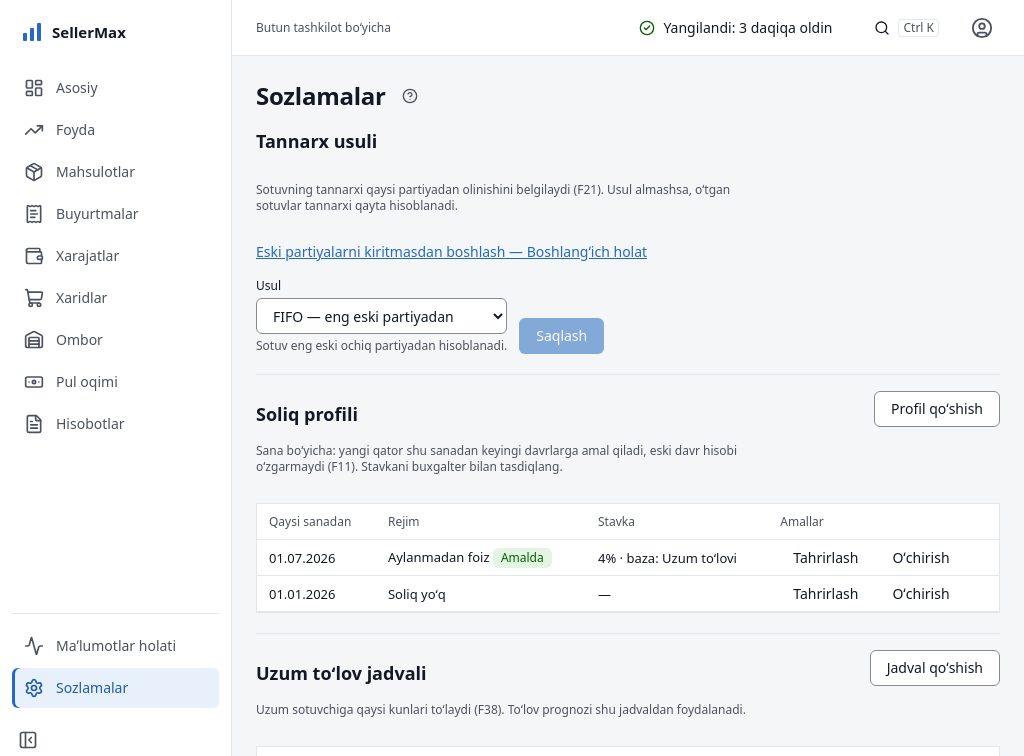
it: tannarx usuli › o'zgartirmaguncha saqlab bo'lmaydi; almashtirish tasdiqdan keyin PUT yuboradi
Expected: the heading "Sozlamalar" is shown, [256,80,386,112]
Expected: the table named "Soliq profili" is shown, [257,504,999,612]
Select "Oʻrtacha (harakatlanuvchi)" in the dropdown labelled "Usul" at (382, 316), box [256,298,507,334]
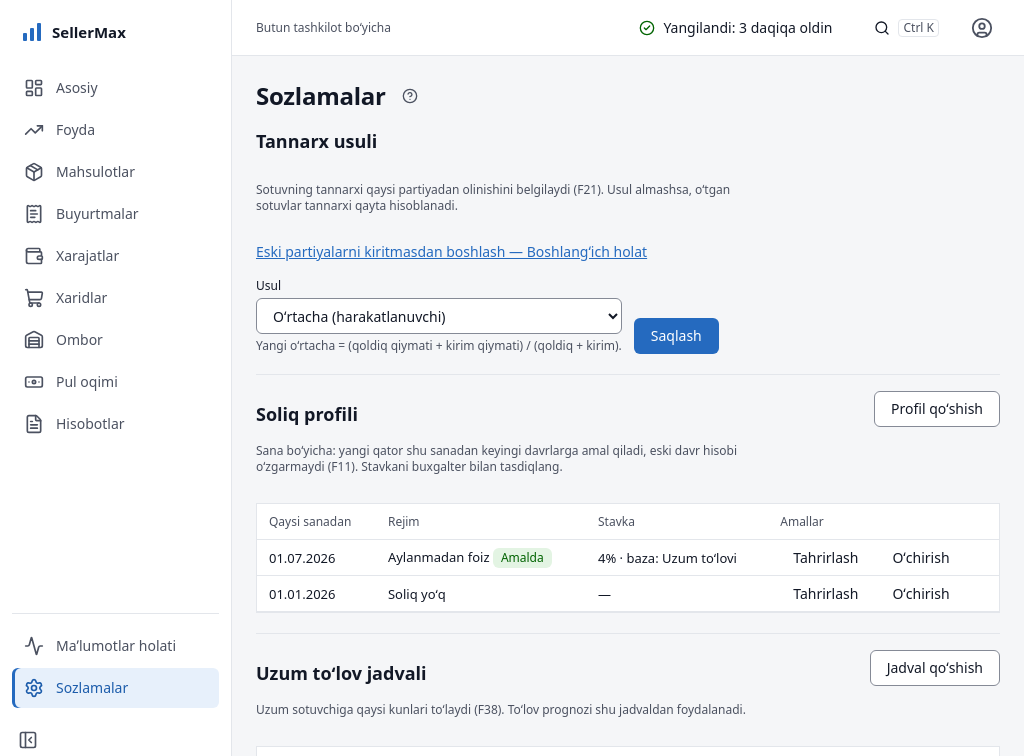
Expected: the button "Saqlash" is enabled
Click the button "Saqlash" at (676, 336), box [634,318,719,354]
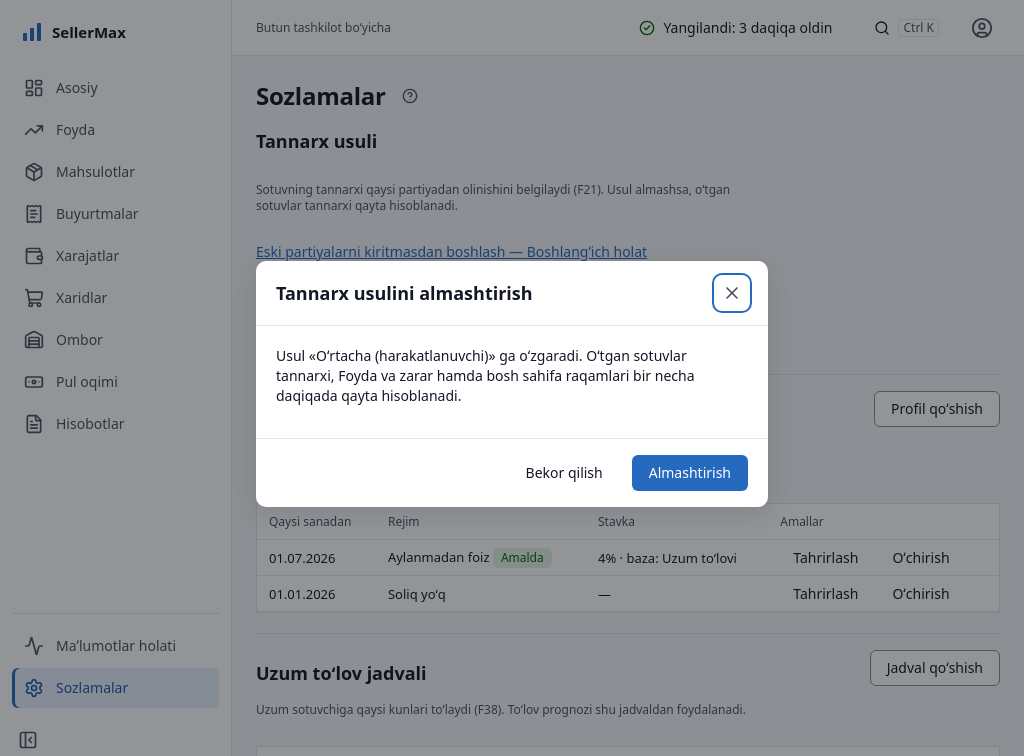
Expected: the dialog "Tannarx usulini almashtirish" shows "Oʻrtacha (harakatlanuvchi)", [276,346,694,405]
Click the button "Almashtirish" at (690, 473), box [632,455,748,491]
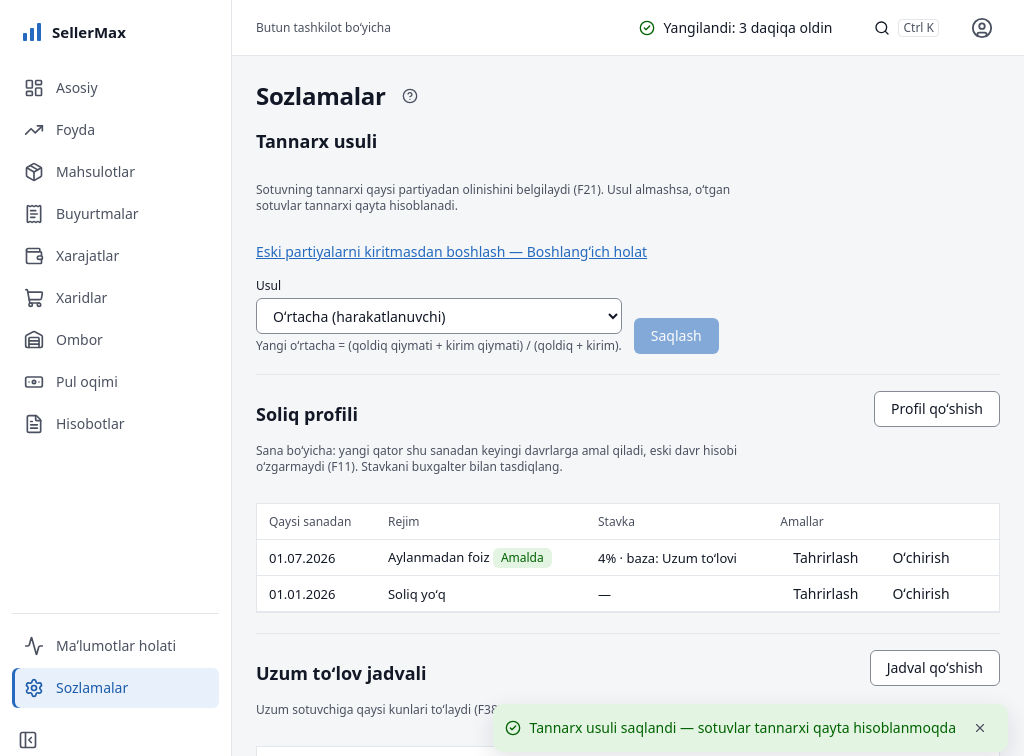
Expected: the dialog is gone
